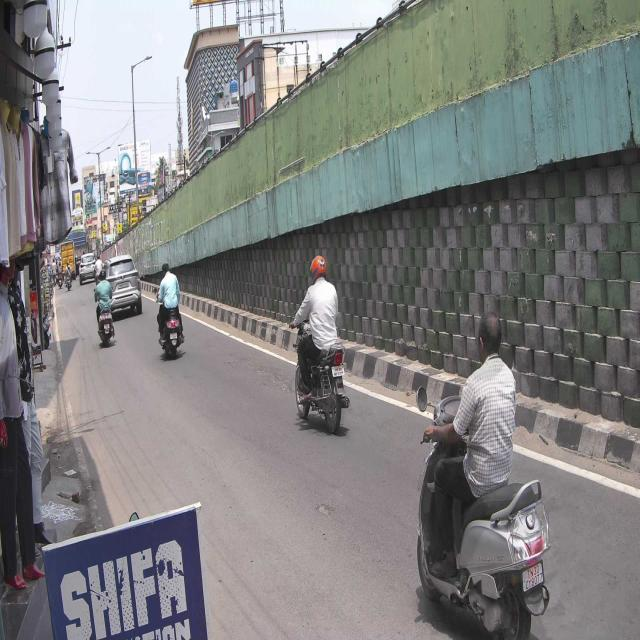single_rider: (415, 312, 550, 640), (288, 251, 350, 435)
